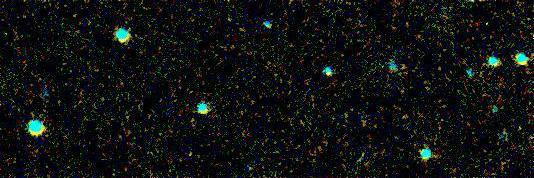star: (314, 60, 344, 90)
